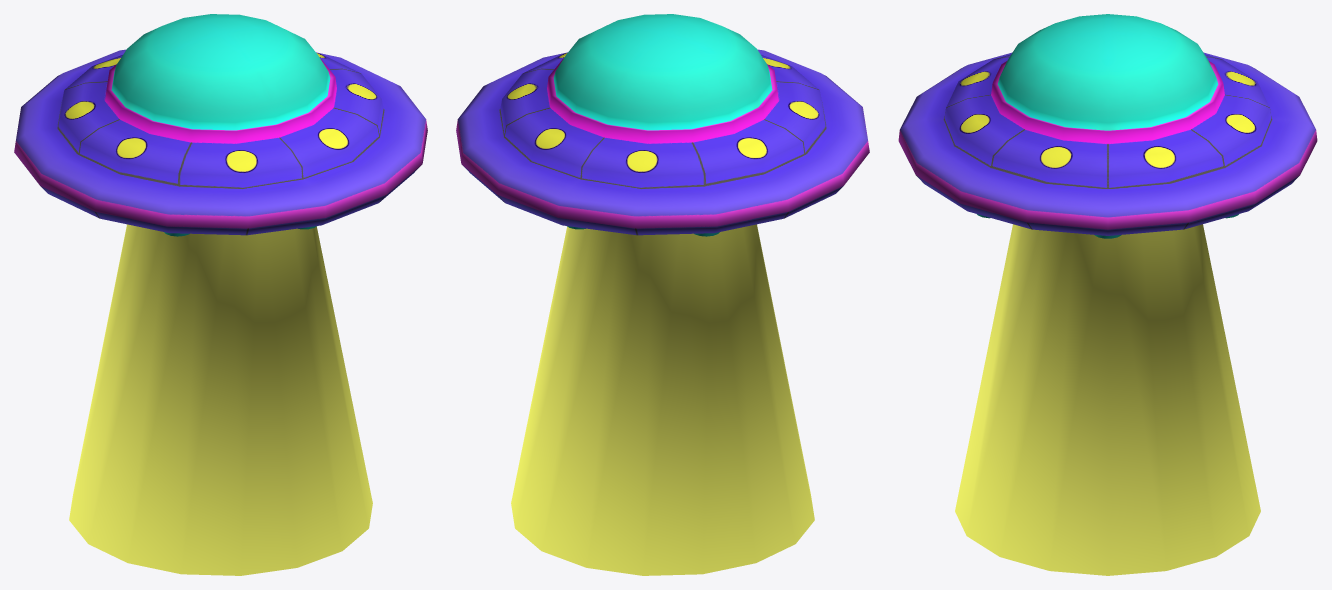
File: UFO.fbx
3 views of the same model, side by side, from view 1: azimuth 30°, elevation 25°; view 2: azimuth 150°, elevation 25°; view 3: azimuth 270°, elevation 25° (orthographic).
Parts seen in each view (by area): view 1: light, ufo; view 2: light, ufo; view 3: light, ufo.
Part boxes in pixels (left/top/right/bottom): light: left=69, top=224, right=372, bottom=575; ufo: left=14, top=14, right=427, bottom=236; light: left=511, top=224, right=814, bottom=575; ufo: left=456, top=14, right=869, bottom=236; light: left=955, top=224, right=1260, bottom=575; ufo: left=898, top=14, right=1317, bottom=238.
Bounding box in the file's own units: 1270 × 1606 × 1274.
2 materials, 2 textured.
